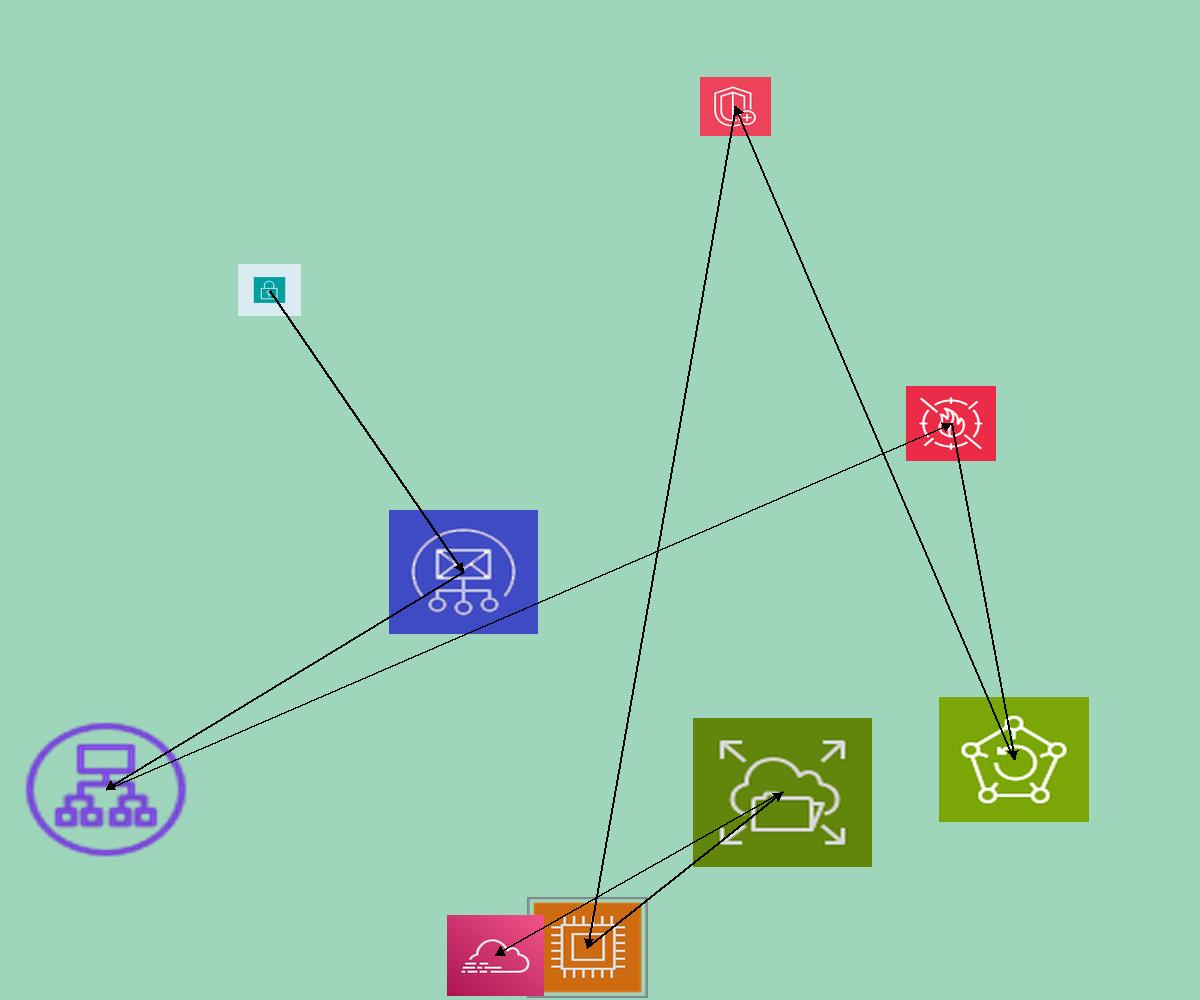AWS-Backup: (939, 697, 1089, 822)
AWS-Category_Compute: (527, 897, 648, 998)
AWS-CloudTrail: (447, 915, 544, 996)
AWS-EFS: (693, 718, 872, 867)
AWS-Private-subnet: (238, 264, 301, 316)
AWS-Res_Elastic-Load-Balancing_Application-Load-Balancer: (19, 717, 193, 862)
AWS-Shield: (700, 77, 771, 136)
AWS-Simple-Email-Service: (389, 510, 538, 634)
AWS-WAF: (906, 386, 996, 461)
